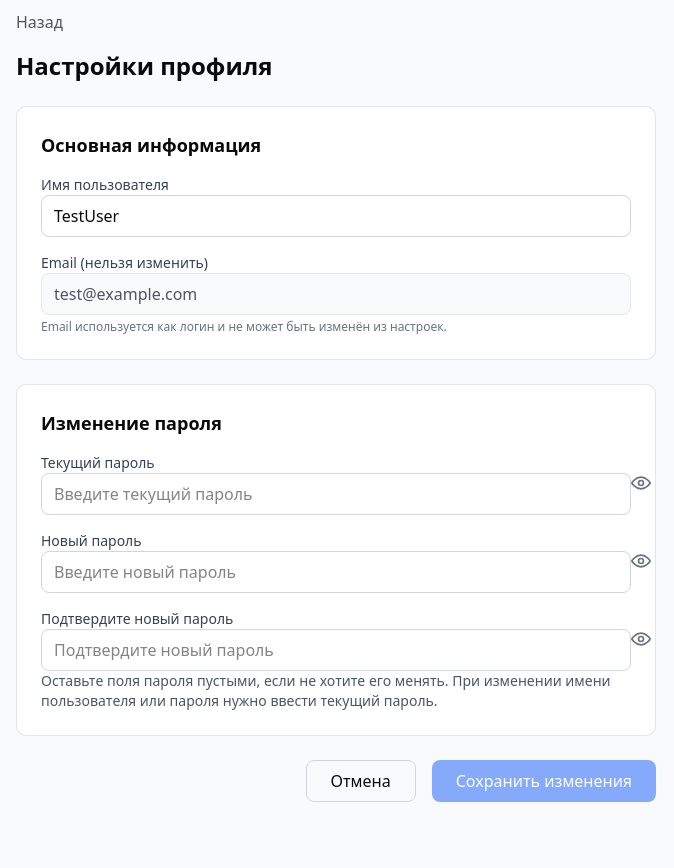
SimpleSettingsPage › валидация: имя пользователя › пустой логин — ошибка «Имя пользователя обязательно»
The image size is (674, 868).
Clear the field labelled "Имя пользователя" at (336, 216), box x1=41 y1=195 x2=631 y2=237
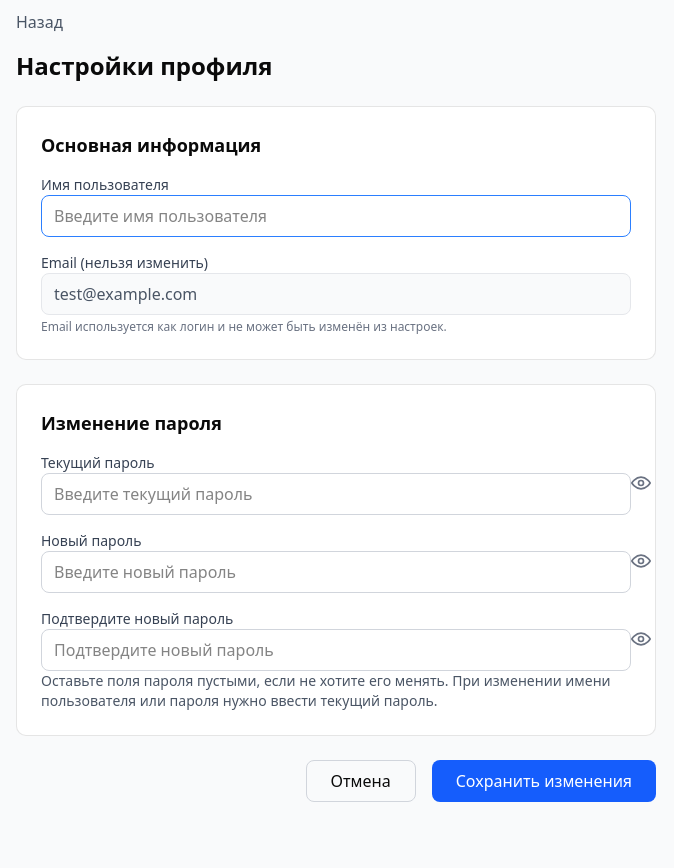
Click the button "Сохранить изменения" at (544, 781), box x1=432 y1=760 x2=656 y2=802
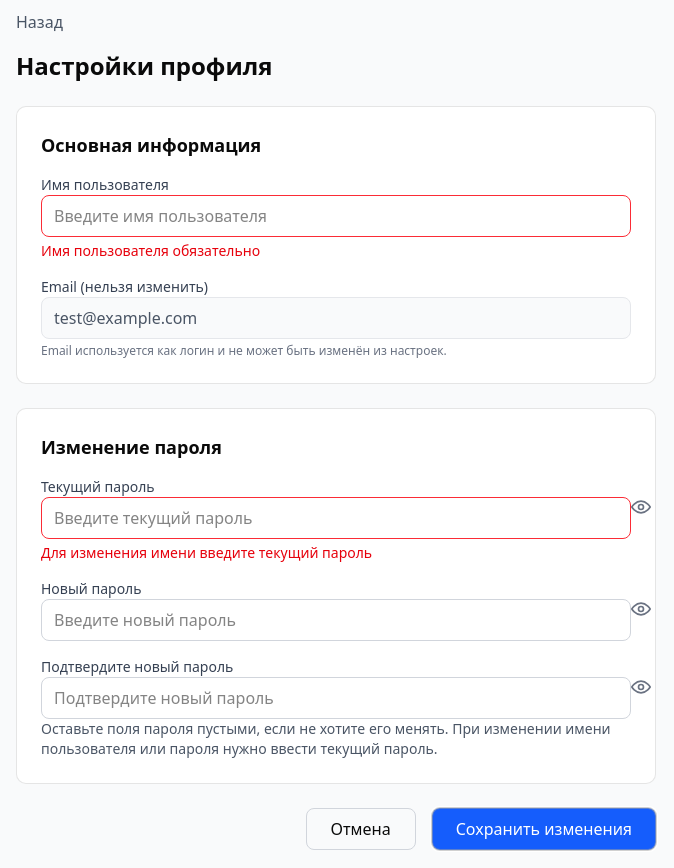
expect the text "Имя пользователя обязательно" is shown: met, box x1=41 y1=241 x2=260 y2=260
